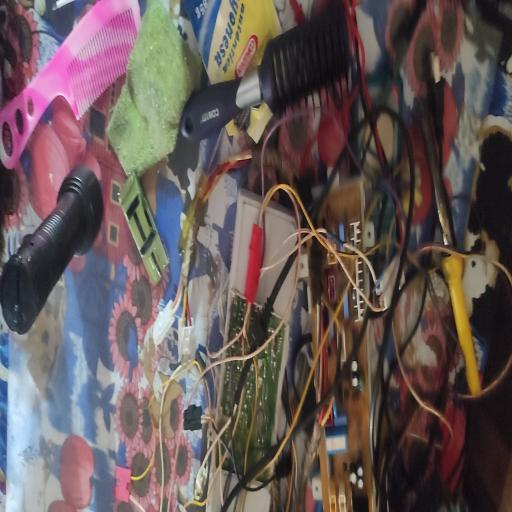Carrito: (119, 175, 169, 286)
